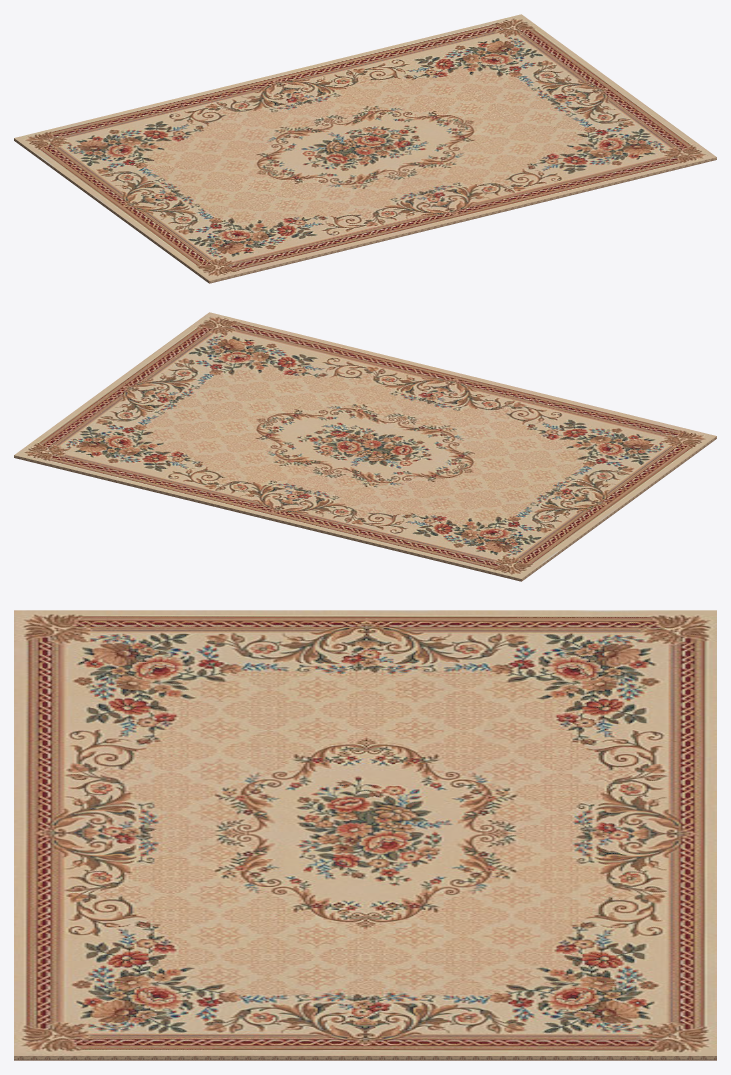
The model's file is flower_rug.dae.
3 views of the same model, one above another, from view 1: azimuth 30°, elevation 25°; view 2: azimuth 150°, elevation 25°; view 3: azimuth 270°, elevation 25° (orthographic). The views are drawn at different scales.
Visible parts, largest first — view 1: Component_8; view 2: Component_8; view 3: Component_8.
Part boxes in pixels (<box>): Component_8: <box>14,14,716,283</box>; Component_8: <box>14,312,716,581</box>; Component_8: <box>14,610,716,1060</box>.
Size of the model in its own units: 78.74 by 52.49 by 0.3937.
Materials: 1 (1 with a texture image).
